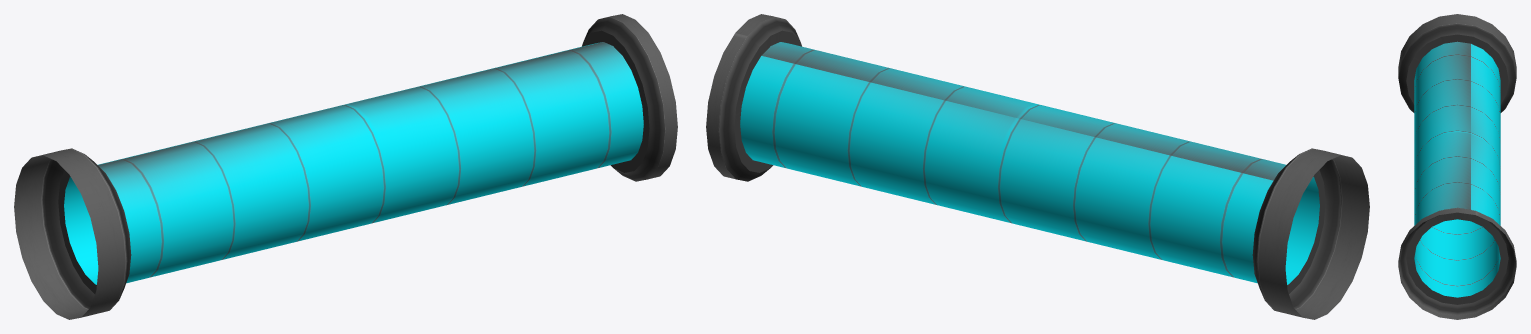
The picture shows the model from 3 angles, left to right: view 1: azimuth 30°, elevation 25°; view 2: azimuth 150°, elevation 25°; view 3: azimuth 270°, elevation 25°; orthographic projection. The views are drawn at different scales.
Visible parts, largest first — view 1: tube_1 corroridor_4; view 2: tube_1 corroridor_4; view 3: tube_1 corroridor_4.
Boxes of the visible parts, left/top/right/bottom form: tube_1 corroridor_4: left=14, top=14, right=677, bottom=319; tube_1 corroridor_4: left=706, top=14, right=1369, bottom=319; tube_1 corroridor_4: left=1398, top=14, right=1516, bottom=319.
Bounding box in the file's own units: 20.06 × 5.06 × 5.06.
Materials: 1 (1 with a texture image).
